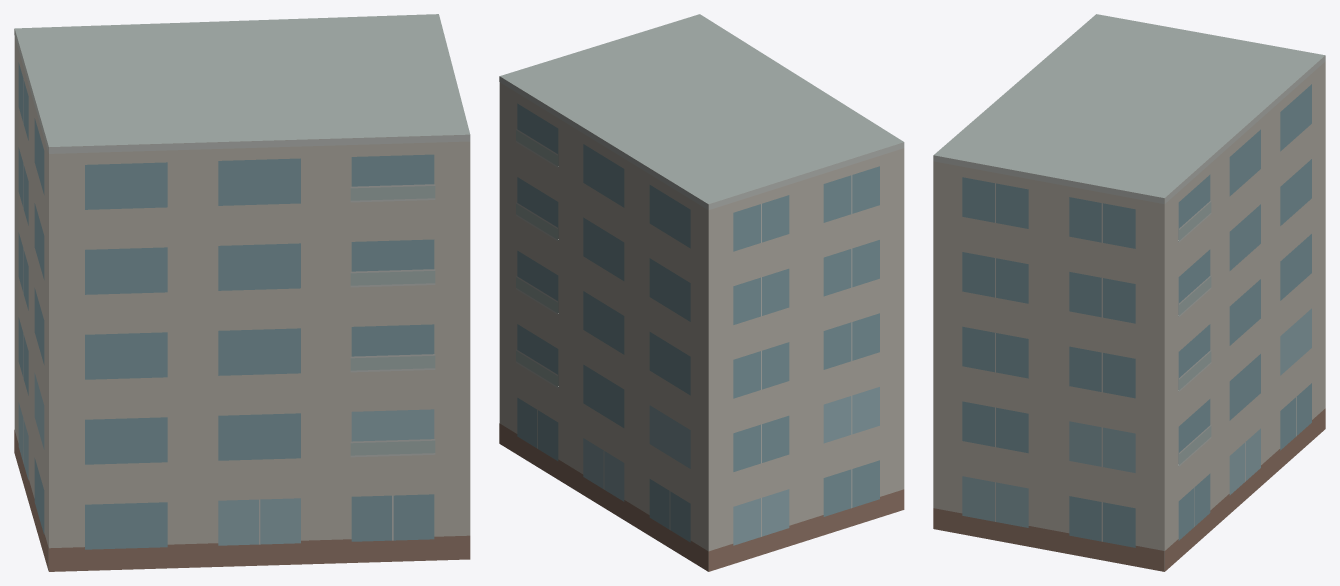
The model's file is survey-upis-32780429.glb.
3 renders of one model, left to right at view 1: azimuth 30°, elevation 25°; view 2: azimuth 150°, elevation 25°; view 3: azimuth 270°, elevation 25°, orthographic. The views are drawn at different scales.
Visible parts, largest first — view 1: survey-upis-32780429.tmp; view 2: survey-upis-32780429.tmp; view 3: survey-upis-32780429.tmp.
Part boxes in pixels (box(x1,y1,x2,y2)): survey-upis-32780429.tmp: box(14, 14, 470, 571); survey-upis-32780429.tmp: box(499, 14, 904, 571); survey-upis-32780429.tmp: box(933, 14, 1325, 571).
Size of the model in its own units: 15.99 by 15.12 by 14.39.
